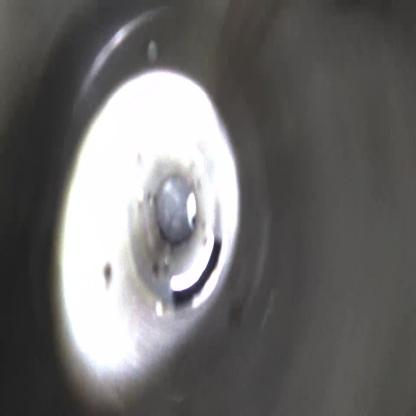Crack2: (173, 236, 225, 310)
